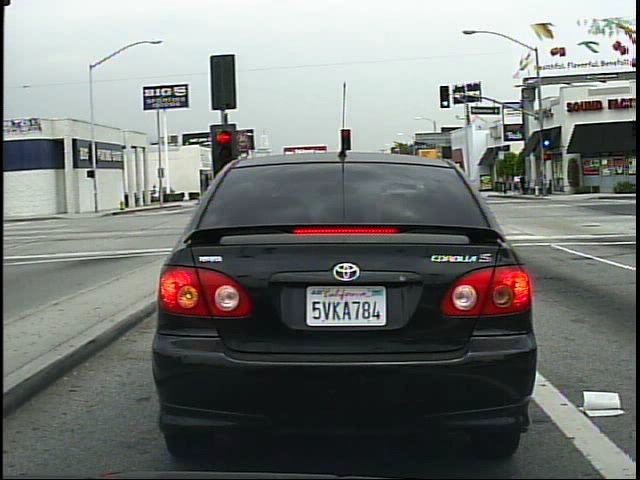person: (518, 170, 529, 197), (151, 182, 160, 210)
